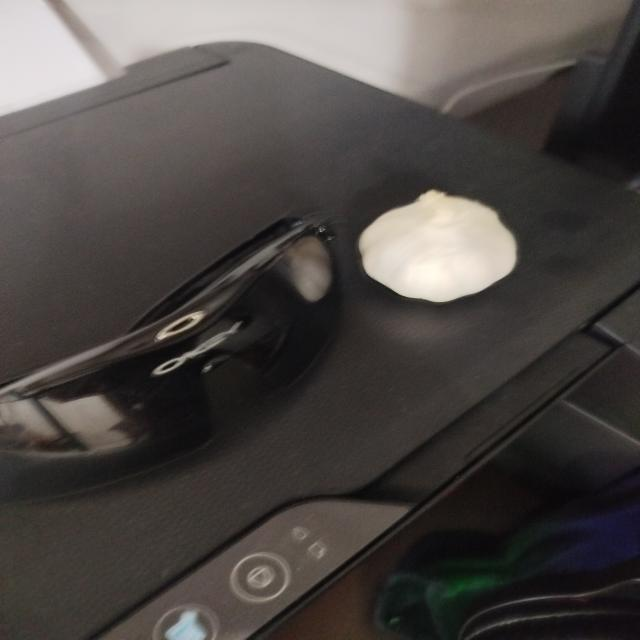garlic: (314, 167, 552, 319)
